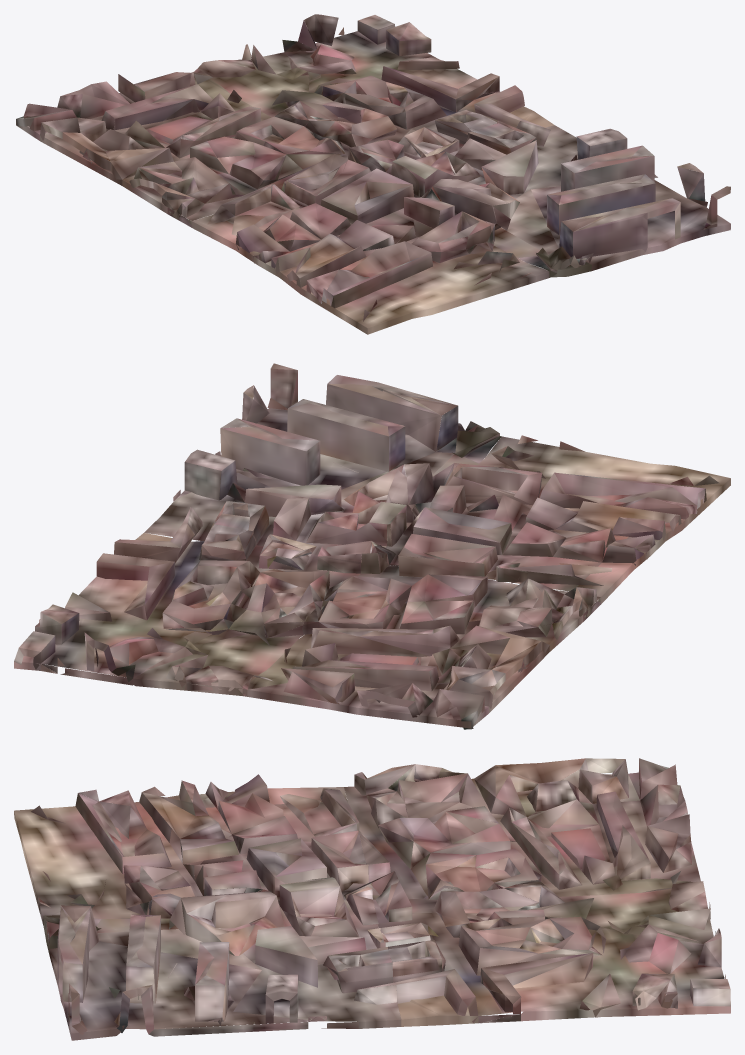
3 views of the same model, one above another, from view 1: azimuth 30°, elevation 25°; view 2: azimuth 150°, elevation 25°; view 3: azimuth 270°, elevation 25° (orthographic). The views are drawn at different scales.
Parts seen in each view (by area): view 1: Mesh_0; view 2: Mesh_0; view 3: Mesh_0.
Boxes of the visible parts, x1,y1,x2,y2 form: Mesh_0: [16, 14, 730, 334]; Mesh_0: [14, 363, 730, 729]; Mesh_0: [14, 758, 730, 1040].
Size of the model in its own units: 535 by 56.89 by 659.
Materials: 2 (2 with a texture image).
